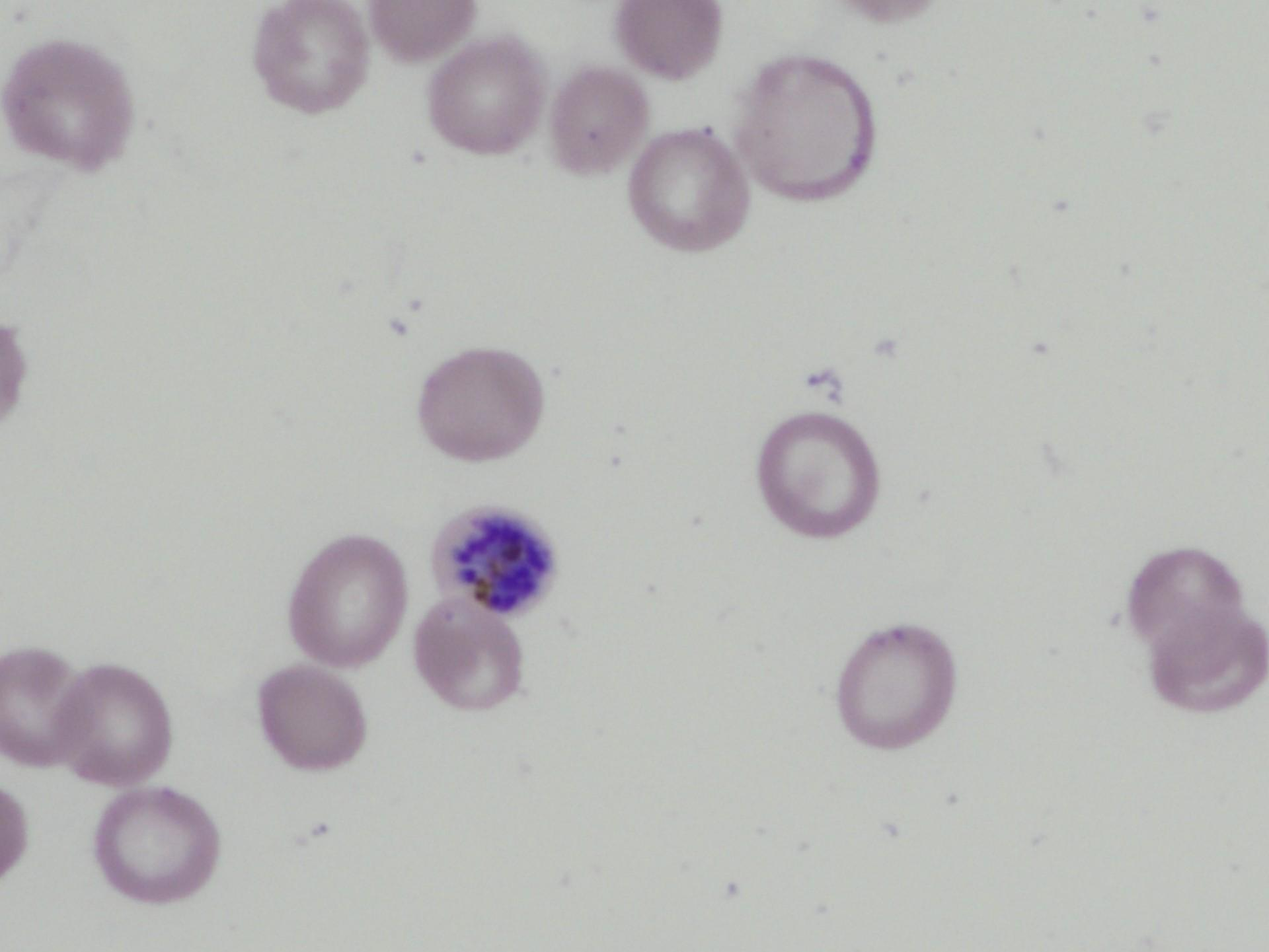Infected: (434, 505, 563, 626)
Uninfected: (742, 54, 869, 200), (3, 40, 130, 167), (89, 783, 221, 904), (833, 624, 953, 752), (414, 346, 545, 463), (289, 538, 405, 666), (628, 135, 753, 251), (758, 419, 877, 538), (54, 667, 170, 786), (254, 664, 371, 774), (412, 599, 525, 712), (428, 40, 541, 152), (256, 1, 367, 112), (1128, 551, 1244, 657), (1159, 620, 1269, 717), (551, 67, 648, 170), (0, 650, 78, 765), (617, 1, 719, 77), (371, 1, 471, 61)
